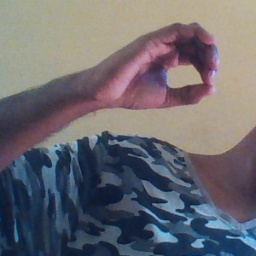O: (104, 13, 220, 115)
